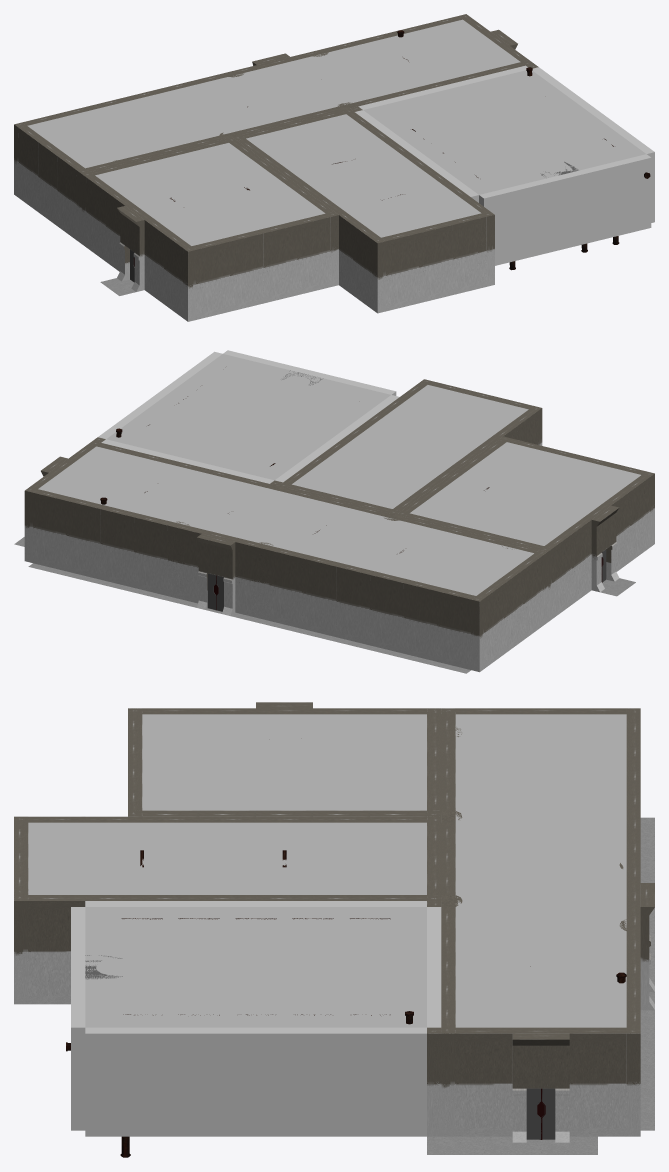
3 views of the same model, one above another, from view 1: azimuth 30°, elevation 25°; view 2: azimuth 150°, elevation 25°; view 3: azimuth 270°, elevation 25° (orthographic). The views are drawn at different scales.
Parts seen in each view (by area): view 1: LabWall35, LabWall12, LabWall13, LabWall14, LabWall34, pCube11, pCube9, LabWall15, pCube10, LabWall36, pCube22, pCube8 (+126 smaller); view 2: LabWall63, LabWall62, LabWall69, LabWall73, LabWall70, LabWall61, LabWall64, LabWall68, LabWall71, LabWall72, LabWall67, polySurface8 (+122 smaller); view 3: LabWall58, LabWall60, pCube12, pCube13, pCube14, pCube15, pCube16, pCube17, polySurface6, LabWall32, pCube22, polySurface8 (+122 smaller).
Part boxes in pixels (bbox=[...]): LabWall35: bbox=[415, 221, 452, 303]; LabWall12: bbox=[292, 213, 330, 295]; LabWall13: bbox=[259, 222, 296, 303]; LabWall14: bbox=[225, 230, 263, 311]; LabWall34: bbox=[381, 229, 419, 311]; pCube11: bbox=[580, 162, 617, 243]; pCube9: bbox=[513, 178, 550, 260]; LabWall15: bbox=[192, 238, 229, 319]; pCube10: bbox=[546, 170, 584, 252]; LabWall36: bbox=[448, 213, 486, 294]; pCube22: bbox=[613, 154, 651, 235]; pCube8: bbox=[479, 187, 517, 265]; LabWall63: bbox=[100, 505, 138, 587]; LabWall62: bbox=[66, 497, 104, 579]; LabWall69: bbox=[302, 555, 340, 637]; LabWall73: bbox=[437, 588, 475, 669]; LabWall70: bbox=[336, 563, 374, 645]; LabWall61: bbox=[33, 489, 71, 571]; LabWall64: bbox=[134, 514, 172, 595]; LabWall68: bbox=[269, 547, 306, 628]; LabWall71: bbox=[370, 571, 408, 653]; LabWall72: bbox=[404, 579, 441, 661]; LabWall67: bbox=[235, 538, 273, 620]; polySurface8: bbox=[197, 530, 239, 615]; LabWall58: bbox=[455, 1027, 512, 1136]; LabWall60: bbox=[569, 1027, 626, 1136]; pCube12: bbox=[85, 1027, 142, 1136]; pCube13: bbox=[142, 1027, 199, 1136]; pCube14: bbox=[199, 1027, 255, 1136]; pCube15: bbox=[256, 1027, 312, 1136]; pCube16: bbox=[313, 1027, 369, 1136]; pCube17: bbox=[370, 1027, 426, 1136]; polySurface6: bbox=[512, 1027, 569, 1142]; LabWall32: bbox=[28, 895, 85, 1004]; pCube22: bbox=[71, 1003, 85, 1130]; polySurface8: bbox=[626, 883, 654, 1010].
Size of the model in its own units: 30 by 5.83 by 22.5.
